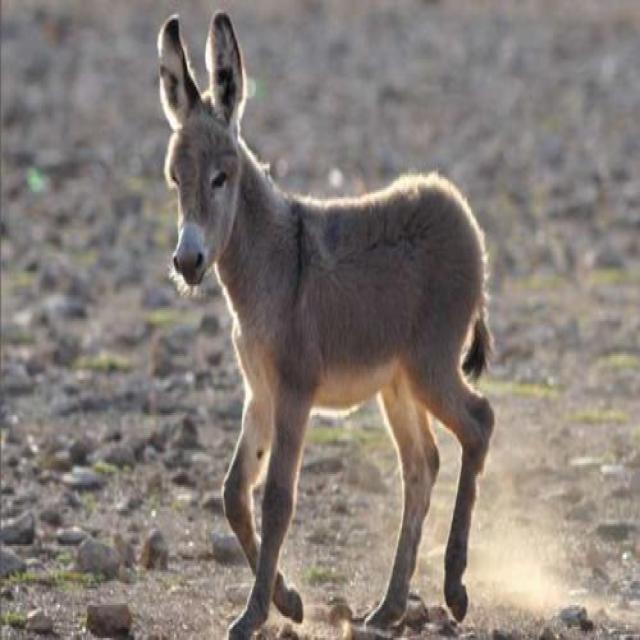Donkey: (160, 11, 495, 640)
